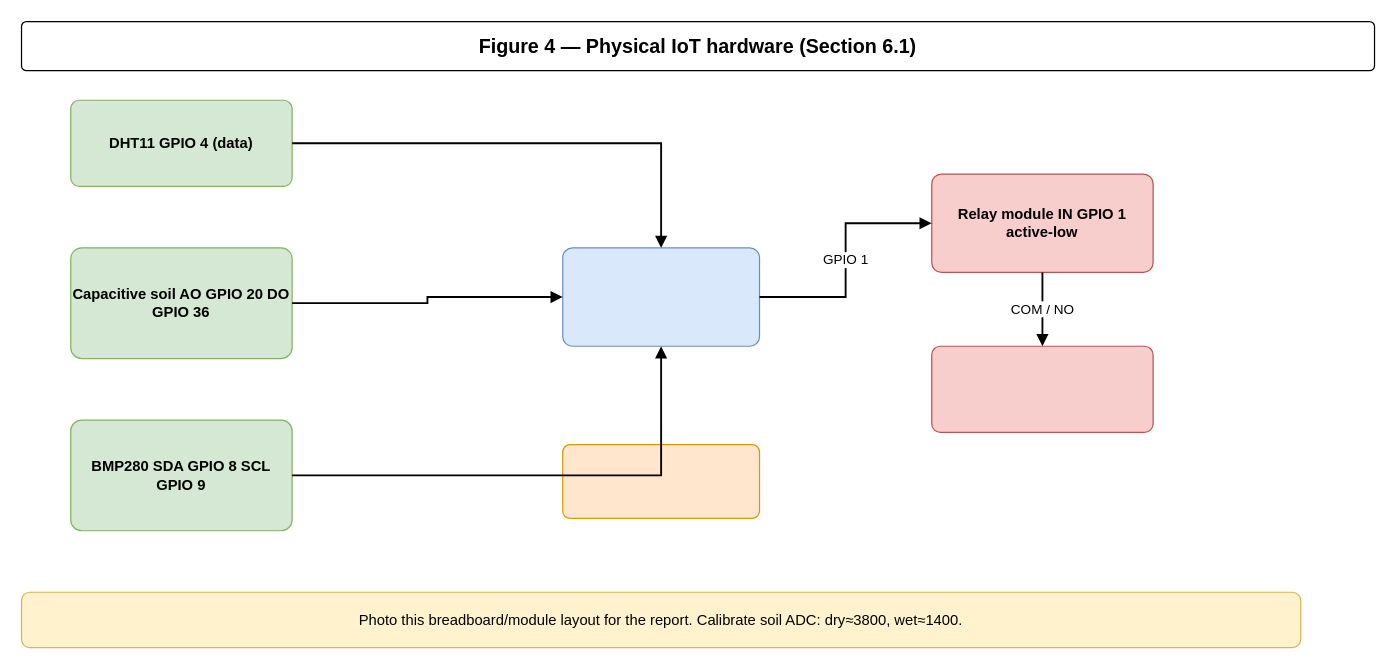
The diagram is 1396 pixels wide and 669 high, and some of its shapes have lost their labels. Here are the shapes that lost their labels. From the top down, the box of each, then its label:
(561, 247, 760, 346): ESP32
(930, 345, 1153, 432): 12 V / USB pump
(561, 443, 760, 518): 5 V USB / 3.3 V rail
